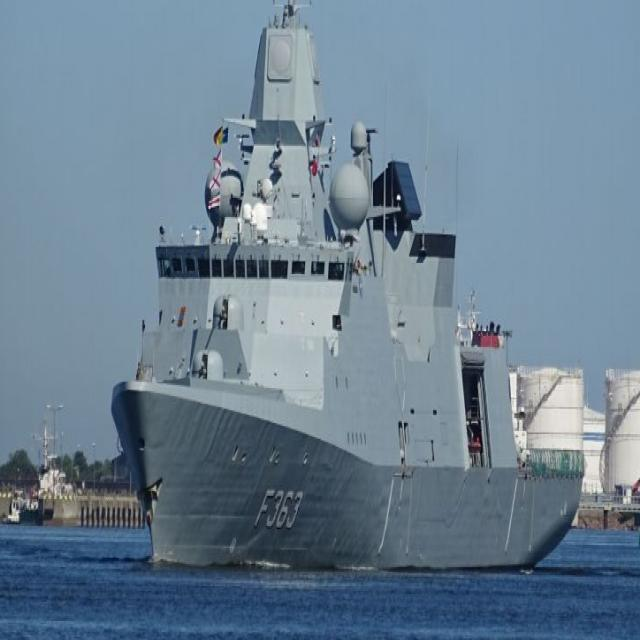Fragata: (109, 1, 588, 578)
